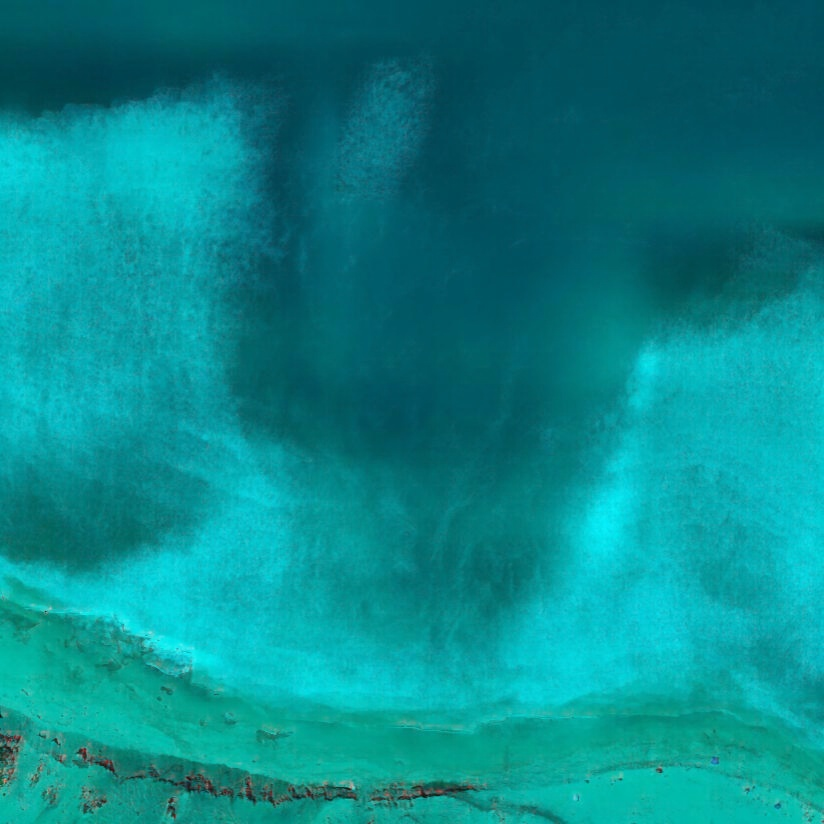rip_current: (189, 78, 651, 687)
